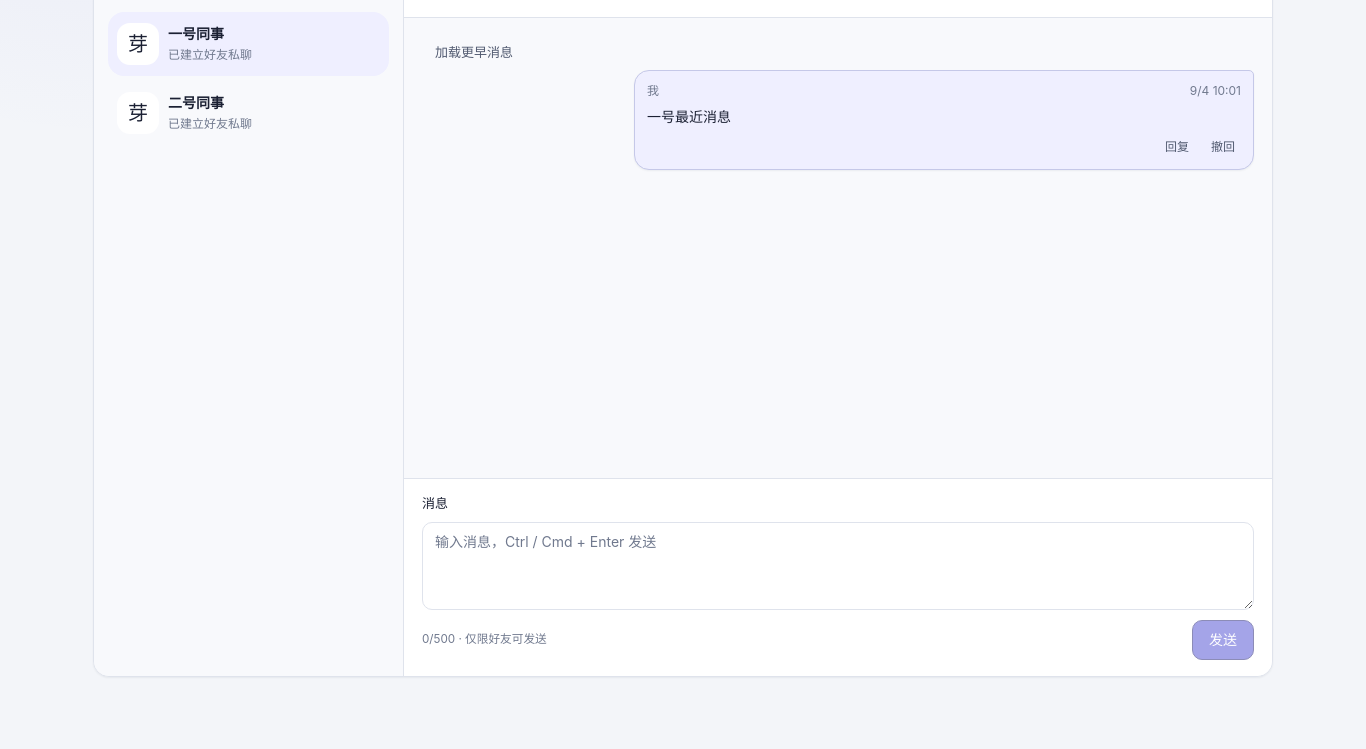
it: CommunityDirectMessagesPage › does not let stale recovery or older-history responses pollute a newly selected conversation
(page scrolled)
expect the text "一号最近消息" is shown: met, box [647, 108, 731, 125]
In the text box labelled "消息": (838, 566) [422, 522, 1254, 610], type "只能发给一号的草稿"
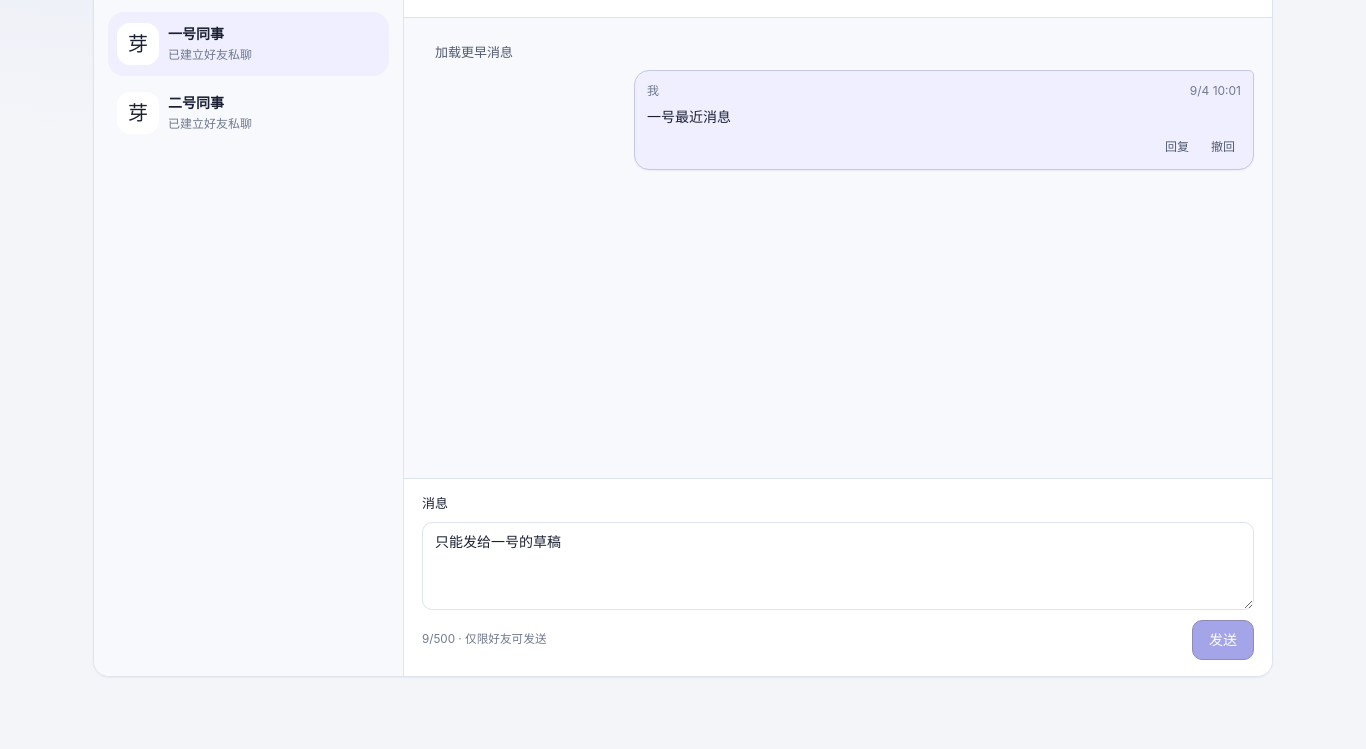
Click the button "回复": (1177, 146) [1159, 134, 1195, 159]
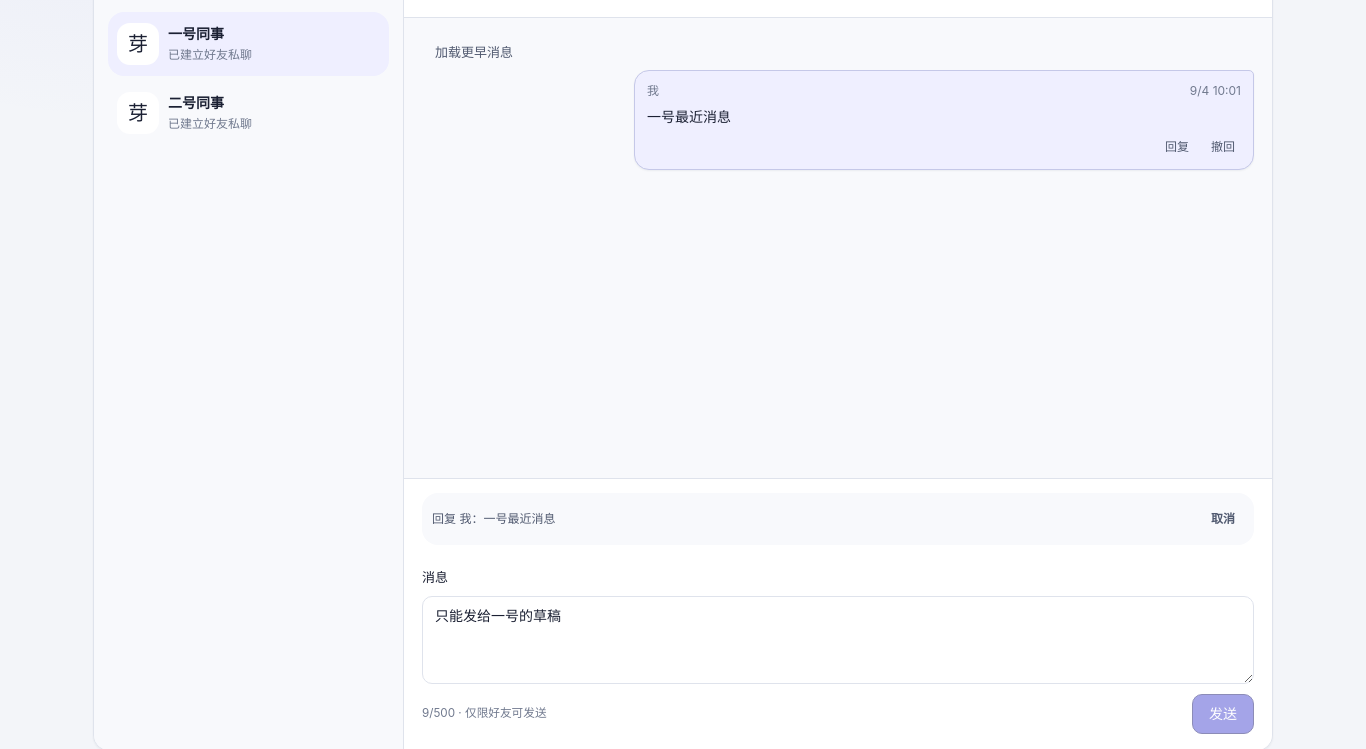
expect the text "回复 我：一号最近消息" is shown: met, box [432, 509, 555, 528]
Click the button "加载更早消息": (474, 53) [422, 36, 526, 70]
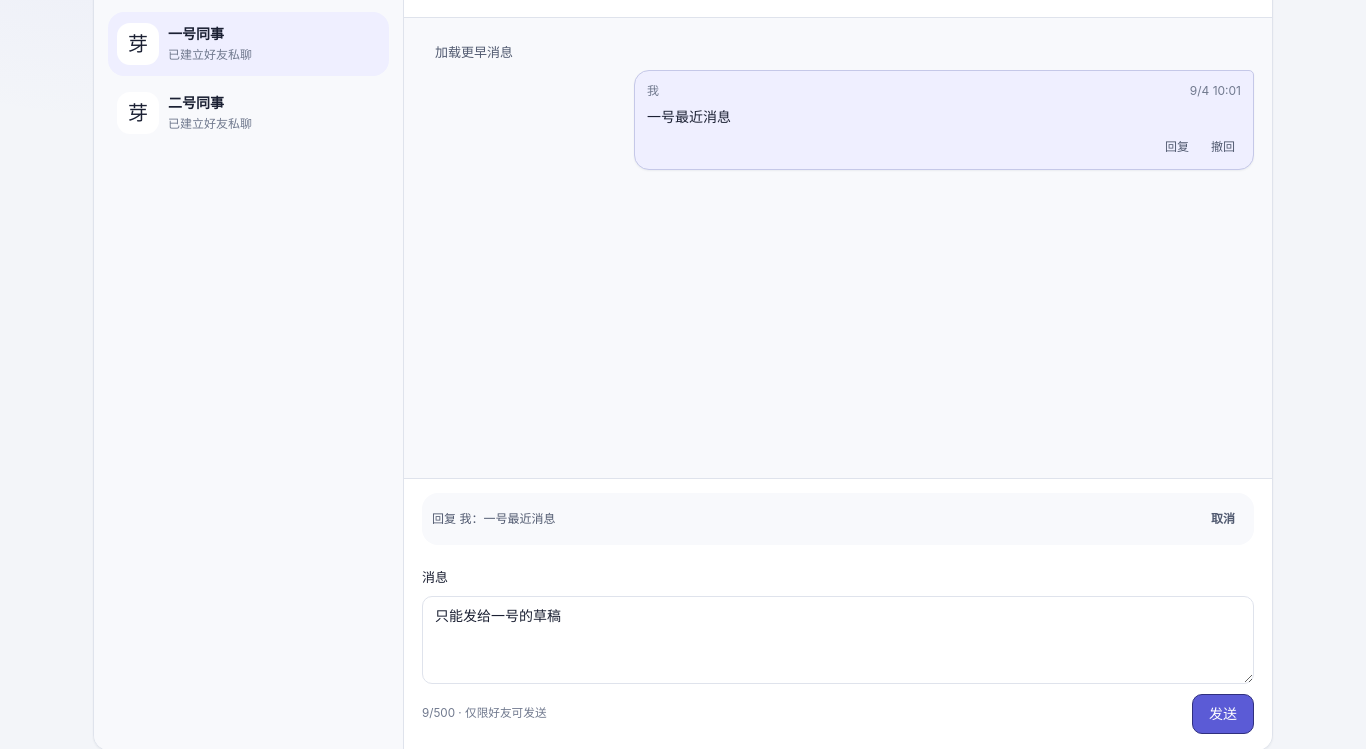
Click the link "芽 二号同事 已建立好友私聊": (184, 113) [117, 92, 252, 134]
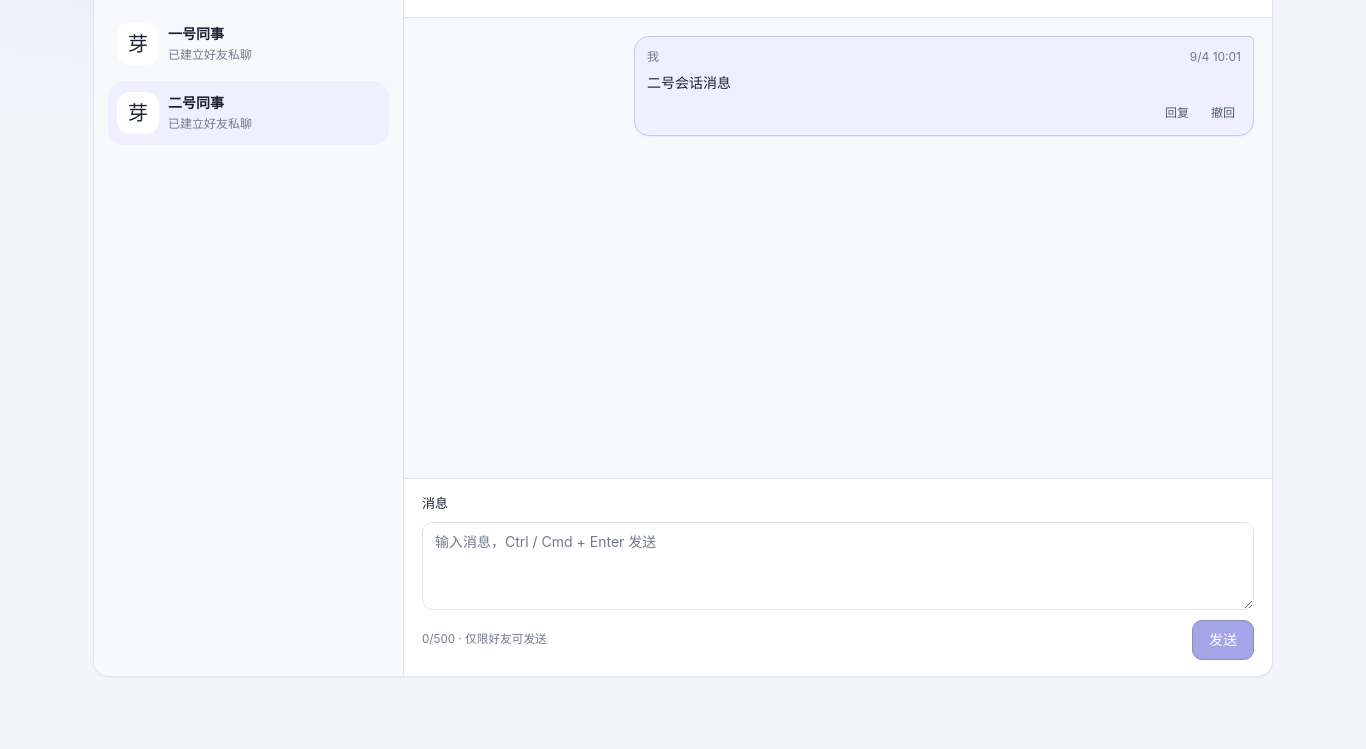
expect the text box labelled "消息" is empty: met, box [422, 522, 1254, 610]
expect the text "回复 我：一号最近消息" is gone: met
expect the text "二号会话消息" is shown: met, box [647, 74, 731, 91]
